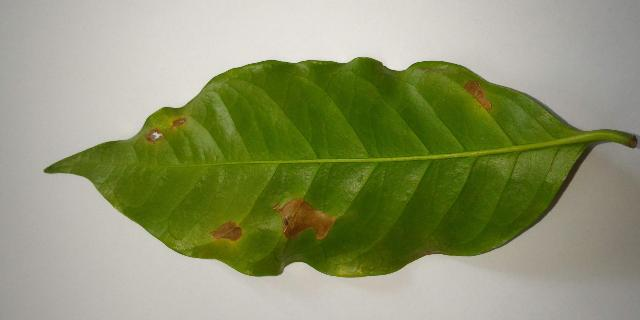cercospora: (273, 198, 336, 240), (464, 81, 491, 110), (210, 221, 242, 243), (145, 128, 164, 143), (169, 117, 186, 131)
